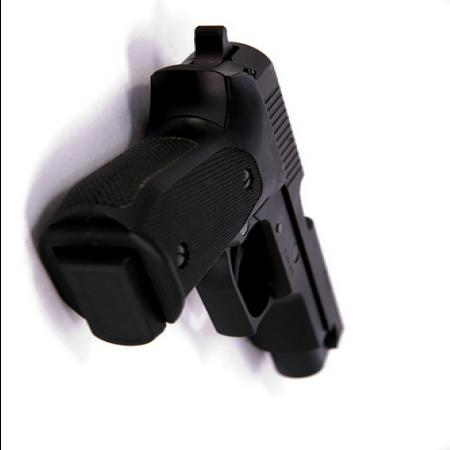Pistol: (48, 24, 347, 378)
